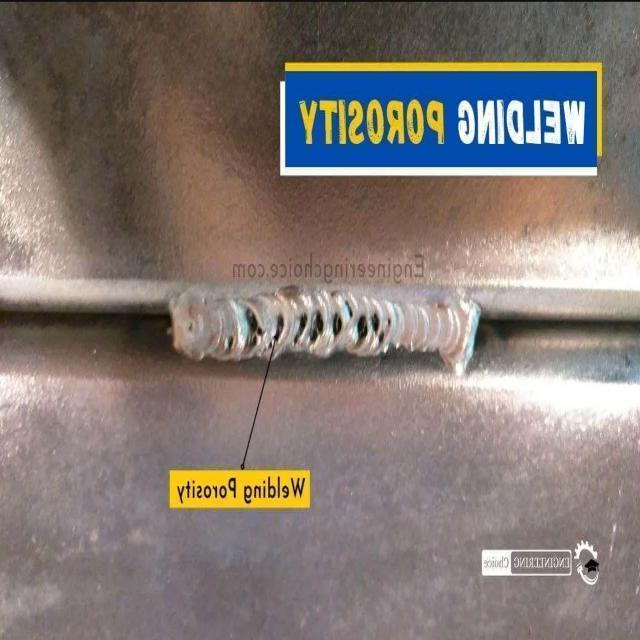Porosity: (242, 304, 264, 352), (309, 310, 324, 344), (293, 312, 308, 345), (355, 311, 369, 341), (272, 312, 285, 344), (331, 310, 343, 339), (223, 333, 235, 354), (369, 313, 380, 335), (377, 329, 388, 350), (344, 298, 355, 319), (386, 317, 391, 327), (266, 342, 272, 350)
